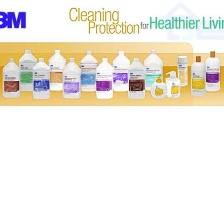cleaning_solution: (141, 47, 165, 92), (124, 55, 147, 100), (0, 56, 22, 99), (17, 47, 38, 92), (61, 55, 82, 99), (78, 48, 98, 93), (94, 56, 114, 100), (47, 48, 67, 92), (31, 56, 51, 100), (111, 49, 131, 92), (202, 51, 222, 92), (188, 54, 207, 96), (163, 69, 182, 101), (148, 75, 169, 100), (175, 54, 189, 87)
